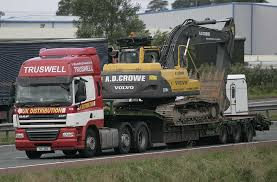excavator: (101, 16, 241, 123)
truck: (10, 48, 273, 150)
